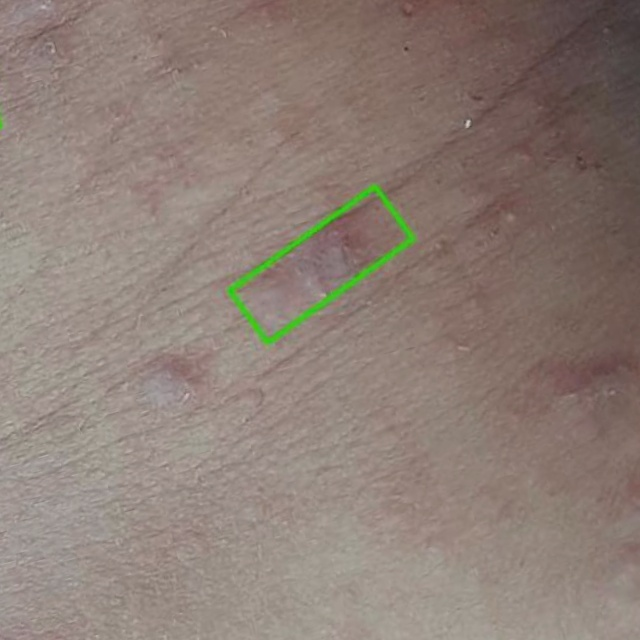Scabies: (230, 185, 413, 341)
